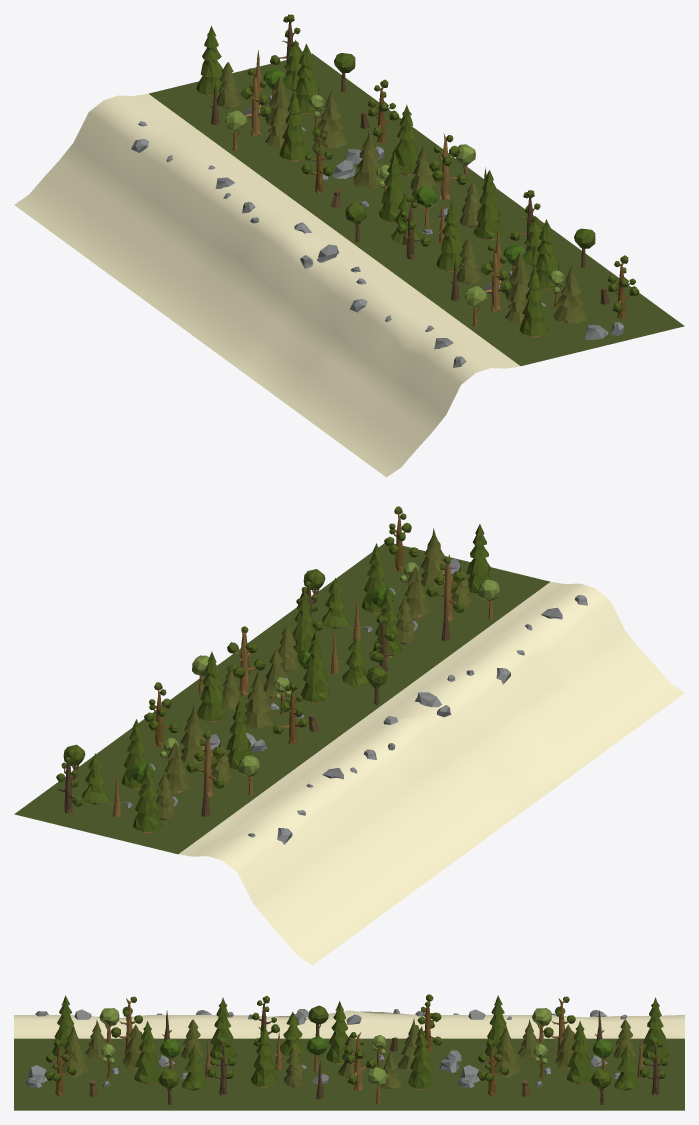
Rendered from canoeTerrainPost_A (2).gltf.
3 renders of one model, top to bottom at view 1: azimuth 30°, elevation 25°; view 2: azimuth 150°, elevation 25°; view 3: azimuth 270°, elevation 25°, orthographic. The views are drawn at different scales.
Visible parts, largest first — view 1: canoeTerrainPresent.002; view 2: canoeTerrainPresent.002; view 3: canoeTerrainPresent.002.
Part boxes in pixels (left/top/right/bottom): canoeTerrainPresent.002: left=14, top=14, right=684, bottom=477; canoeTerrainPresent.002: left=14, top=506, right=684, bottom=965; canoeTerrainPresent.002: left=14, top=994, right=684, bottom=1110.
Bounding box in the file's own units: 78.74 × 37.1 × 170.
